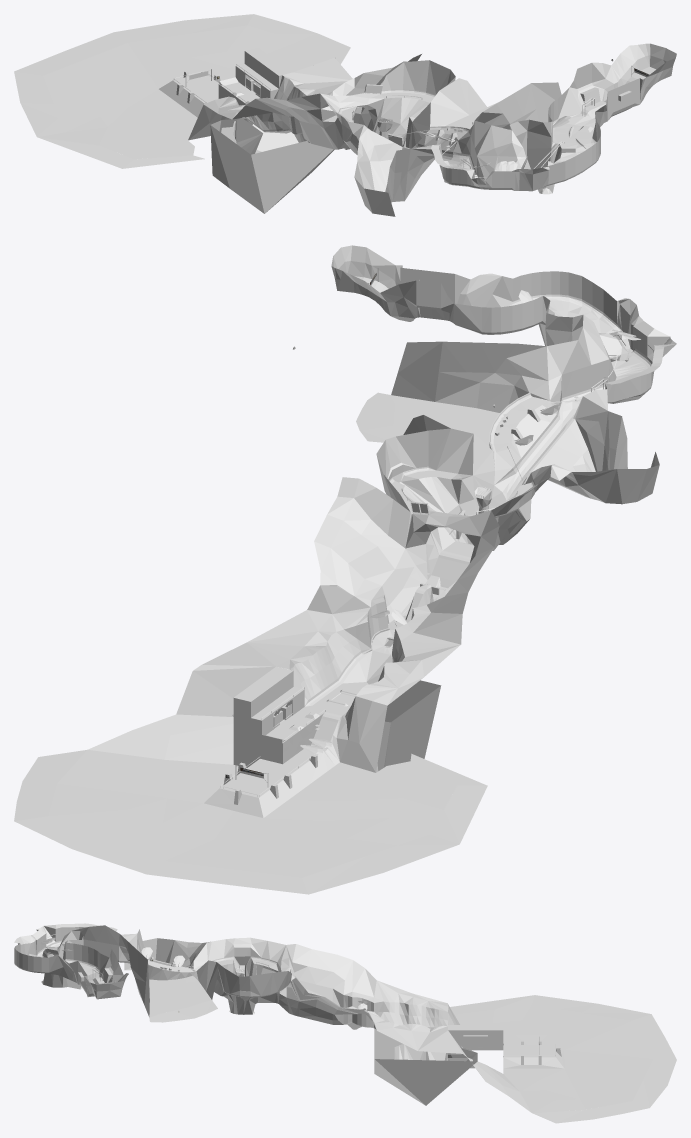
File: skjam.glb
3 views of the same model, one above another, from view 1: azimuth 30°, elevation 25°; view 2: azimuth 150°, elevation 25°; view 3: azimuth 270°, elevation 25° (orthographic). The views are drawn at different scales.
Visible parts, largest first — view 1: SKJAM_Col_Floor, SKJAM_Col_Wall, SKJAM_Col_Ride, SKJAM_Col_Pipe; view 2: SKJAM_Col_Floor, SKJAM_Col_Wall, SKJAM_Col_Ride, SKJAM_Col_Pipe; view 3: SKJAM_Col_Floor, SKJAM_Col_Wall, SKJAM_Col_Ride, SKJAM_Col_Pipe.
Boxes of the visible parts, x1,y1,x2,y2 form: SKJAM_Col_Floor: (14,14,655,211); SKJAM_Col_Wall: (173,44,676,216); SKJAM_Col_Ride: (218,43,676,192); SKJAM_Col_Pipe: (219,82,639,190); SKJAM_Col_Floor: (14,271,676,894); SKJAM_Col_Wall: (220,245,659,804); SKJAM_Col_Ride: (233,245,676,767); SKJAM_Col_Pipe: (266,294,652,743); SKJAM_Col_Floor: (14,923,676,1123); SKJAM_Col_Wall: (18,925,561,1105); SKJAM_Col_Ride: (14,925,503,1050); SKJAM_Col_Pipe: (14,940,473,1051).
Bounding box in the file's own units: 271 × 162 × 525.
36 materials, 34 textured.
